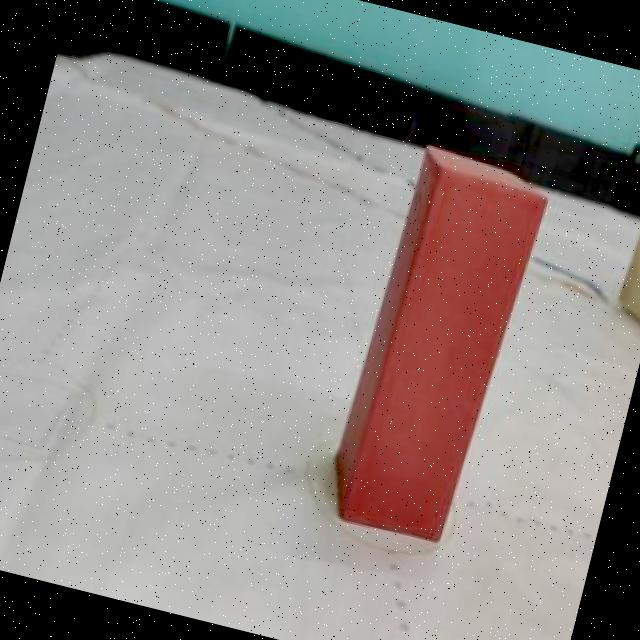redbox: (326, 142, 552, 550)
